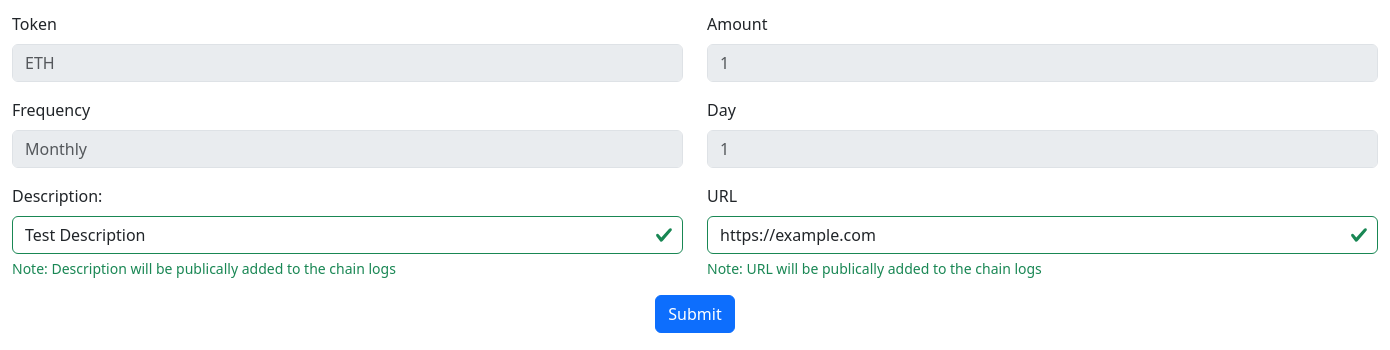
Test: EditDetailsForm › validates URL format
This screenshot has width=1390, height=350.
Type "invalid-url" into the field labelled "URL".
click(1042, 235); type("invalid-url")  # box [707,216,1378,254]
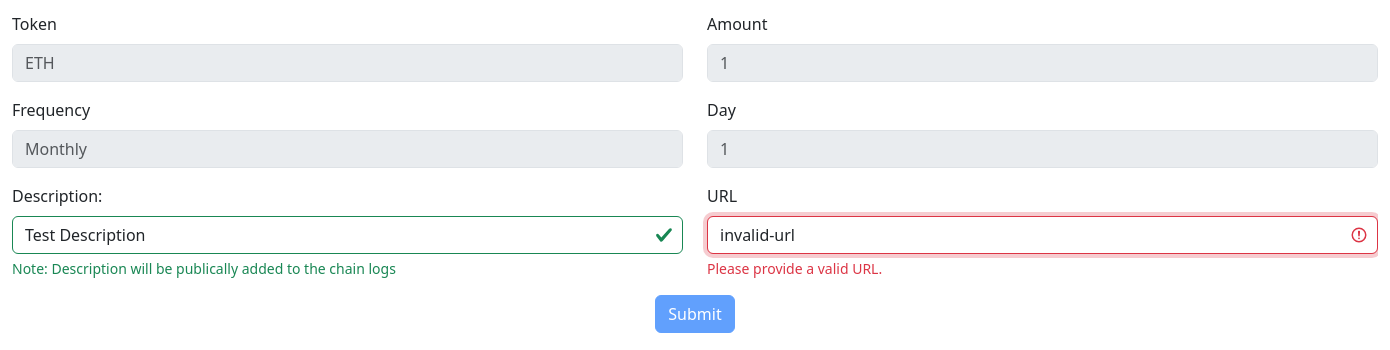
Expected: the text "Please provide a valid URL." is shown, [707,259,882,278]
